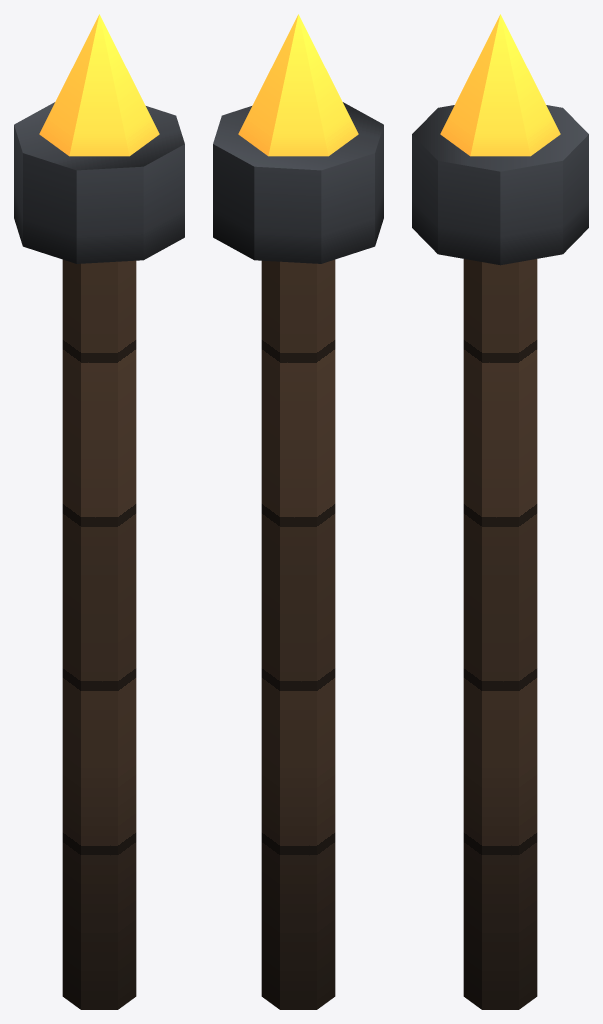
The model's file is torch.glb.
The picture shows the model from 3 angles, left to right: view 1: azimuth 30°, elevation 25°; view 2: azimuth 150°, elevation 25°; view 3: azimuth 270°, elevation 25°; orthographic projection.
Parts seen in each view (by area): view 1: torch; view 2: torch; view 3: torch.
Part boxes in pixels (box(x1,y1,x2,y2)): torch: box(14, 14, 184, 1009); torch: box(213, 14, 383, 1009); torch: box(412, 14, 588, 1009).
Size of the model in its own units: 0.24 by 1.47 by 0.24.
1 material, 1 textured.
